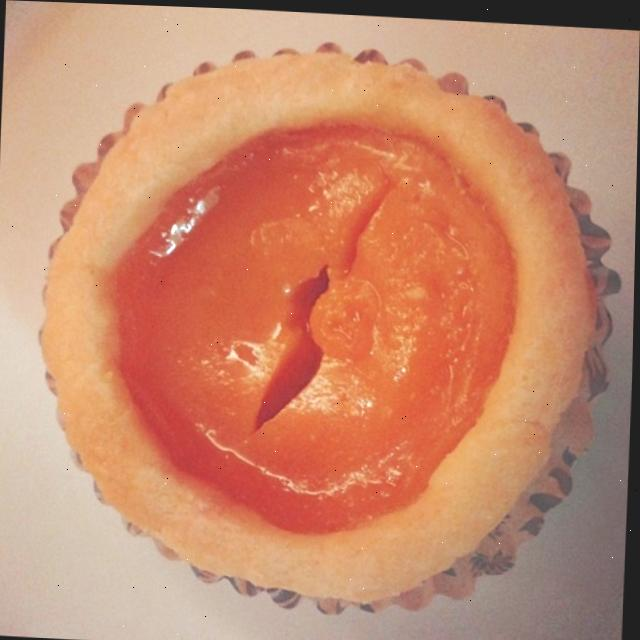炸货点心: (9, 14, 640, 640)
蛋糕甜品: (9, 14, 640, 640)
